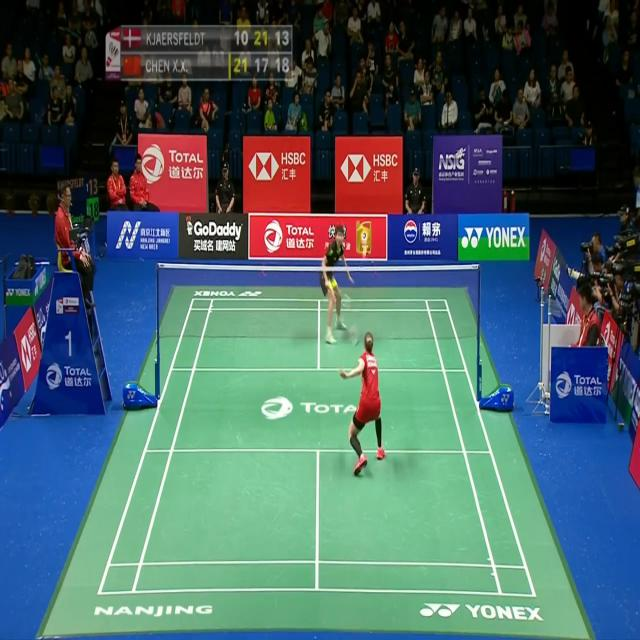Player1: (333, 322, 389, 479)
Player2: (316, 221, 358, 345)
